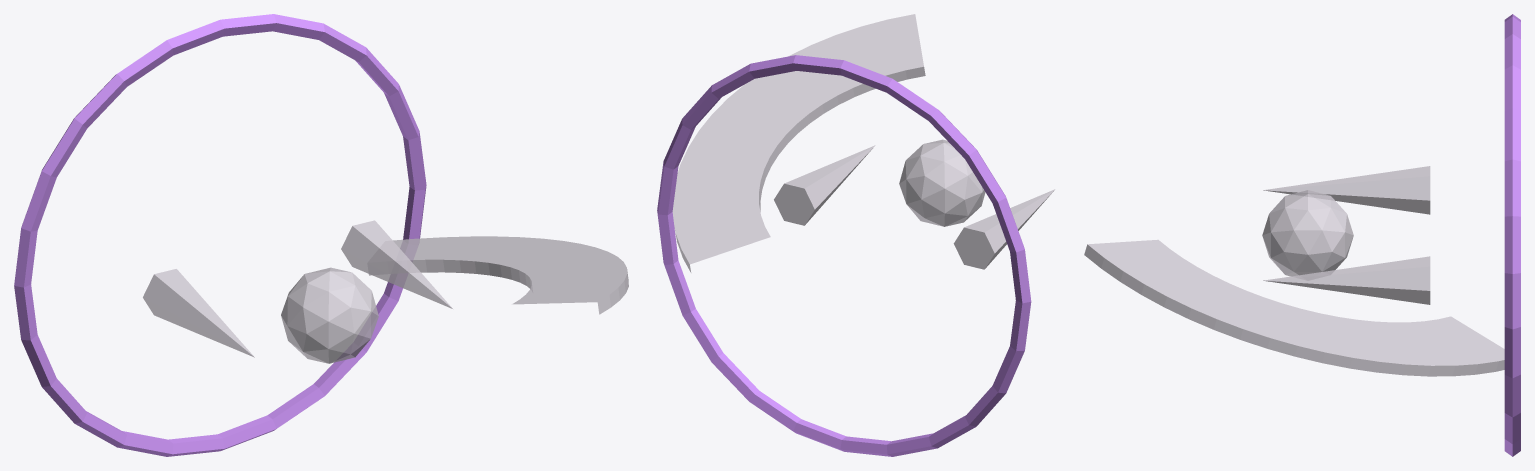
Rendered from 01_special_attack_vfx.glb.
3 renders of one model, left to right at view 1: azimuth 30°, elevation 25°; view 2: azimuth 150°, elevation 25°; view 3: azimuth 270°, elevation 25°, orthographic. The views are drawn at different scales.
Parts seen in each view (by area): view 1: impact_window_ring, combo_slash_or_magic_arc, timing_core, telegraph_spike_b, telegraph_spike_a; view 2: combo_slash_or_magic_arc, impact_window_ring, timing_core, telegraph_spike_b, telegraph_spike_a; view 3: combo_slash_or_magic_arc, impact_window_ring, timing_core, telegraph_spike_b, telegraph_spike_a.
Boxes of the visible parts, x1,y1,x2,y2 form: impact_window_ring: [14, 14, 426, 456]; combo_slash_or_magic_arc: [368, 236, 628, 314]; timing_core: [281, 267, 378, 363]; telegraph_spike_b: [341, 220, 452, 308]; telegraph_spike_a: [143, 269, 254, 357]; combo_slash_or_magic_arc: [672, 14, 925, 272]; impact_window_ring: [657, 55, 1031, 456]; timing_core: [899, 139, 985, 226]; telegraph_spike_b: [774, 145, 875, 225]; telegraph_spike_a: [953, 189, 1055, 269]; combo_slash_or_magic_arc: [1084, 239, 1504, 376]; impact_window_ring: [1504, 14, 1520, 456]; timing_core: [1262, 190, 1353, 276]; telegraph_spike_b: [1263, 256, 1430, 304]; telegraph_spike_a: [1263, 166, 1430, 214].
Bounding box in the file's own units: 1.65 × 1.46 × 1.43.
